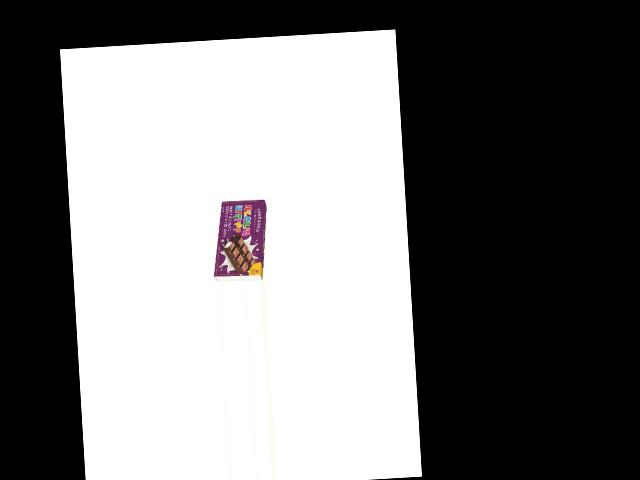chocolate: (213, 193, 270, 283)
